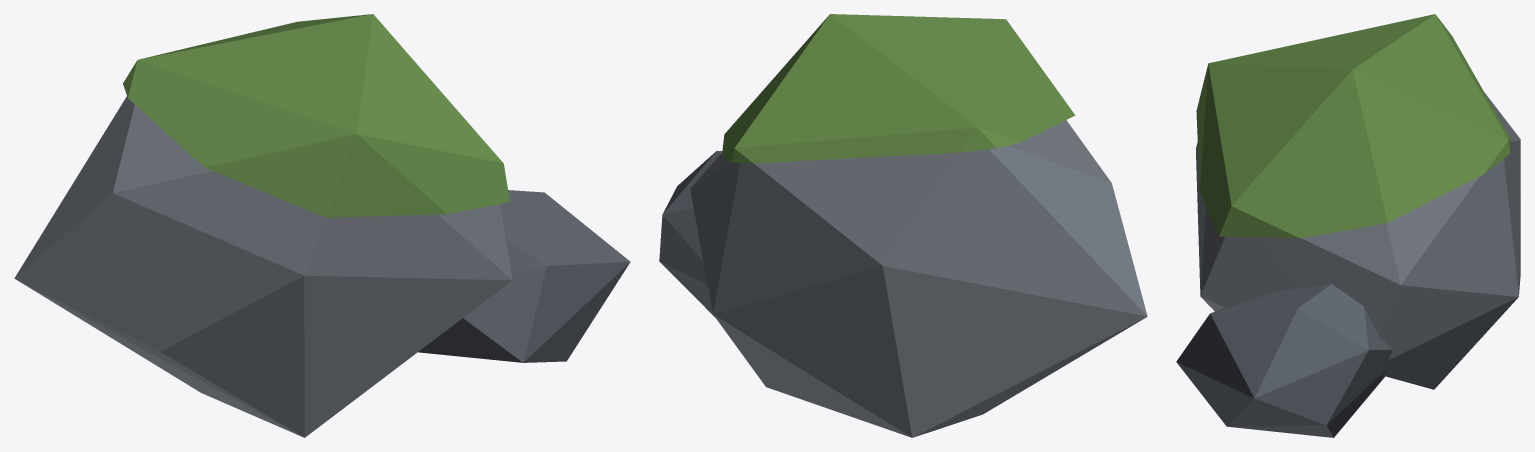
The model's file is Rock.fbx.
The picture shows the model from 3 angles, left to right: view 1: azimuth 30°, elevation 25°; view 2: azimuth 150°, elevation 25°; view 3: azimuth 270°, elevation 25°; orthographic projection. The views are drawn at different scales.
Visible parts, largest first — view 1: Rock, Moss, Rock2; view 2: Rock, Moss, Rock2; view 3: Moss, Rock, Rock2.
Part boxes in pixels (box(x1,y1,x2,y2)): Rock: box(14, 96, 512, 437); Moss: box(123, 14, 509, 217); Rock2: box(418, 190, 630, 362); Rock: box(690, 120, 1147, 437); Moss: box(722, 14, 1075, 163); Rock2: box(659, 151, 722, 317); Moss: box(1196, 14, 1511, 238); Rock: box(1196, 92, 1520, 389); Rock2: box(1176, 284, 1392, 437).
Size of the model in its own units: 4.92 by 3.03 by 2.96.
